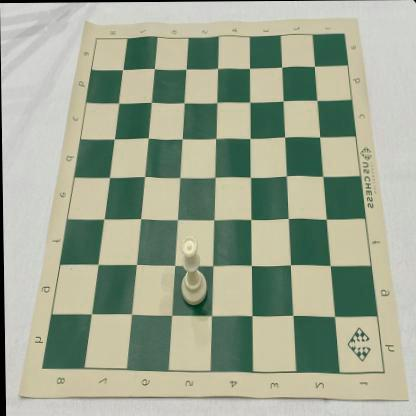white-queen: (179, 234, 206, 307)
